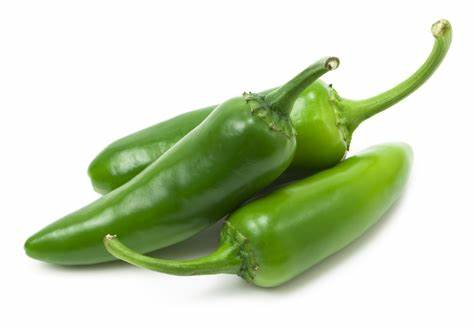Chili: (42, 38, 460, 205), (14, 62, 302, 278), (213, 136, 440, 296)
